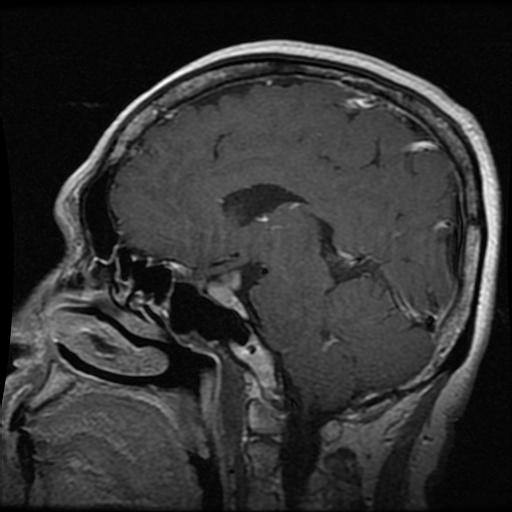pituitary: (211, 269, 241, 305)
